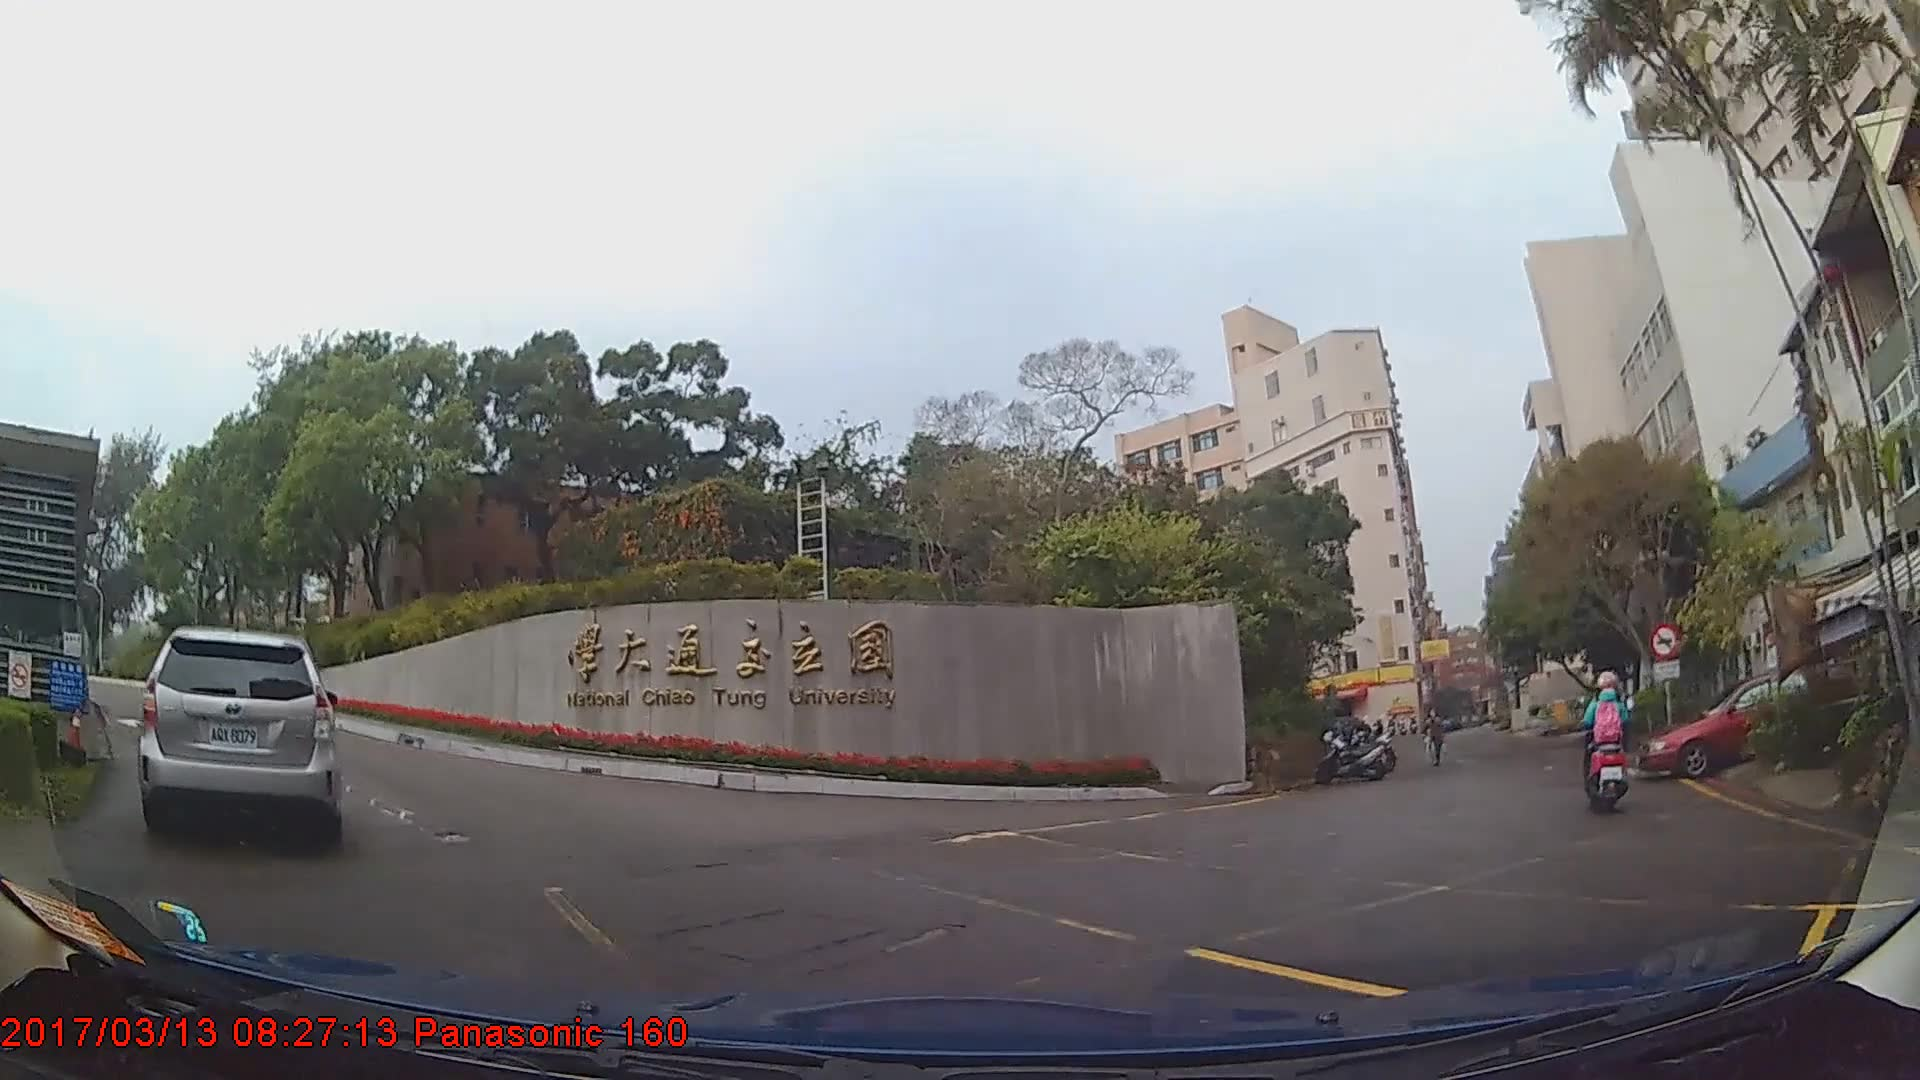pedestrian: (1423, 708, 1449, 768)
rider: (1586, 664, 1634, 811)
vehicle: (138, 625, 341, 848), (1636, 670, 1847, 778)
